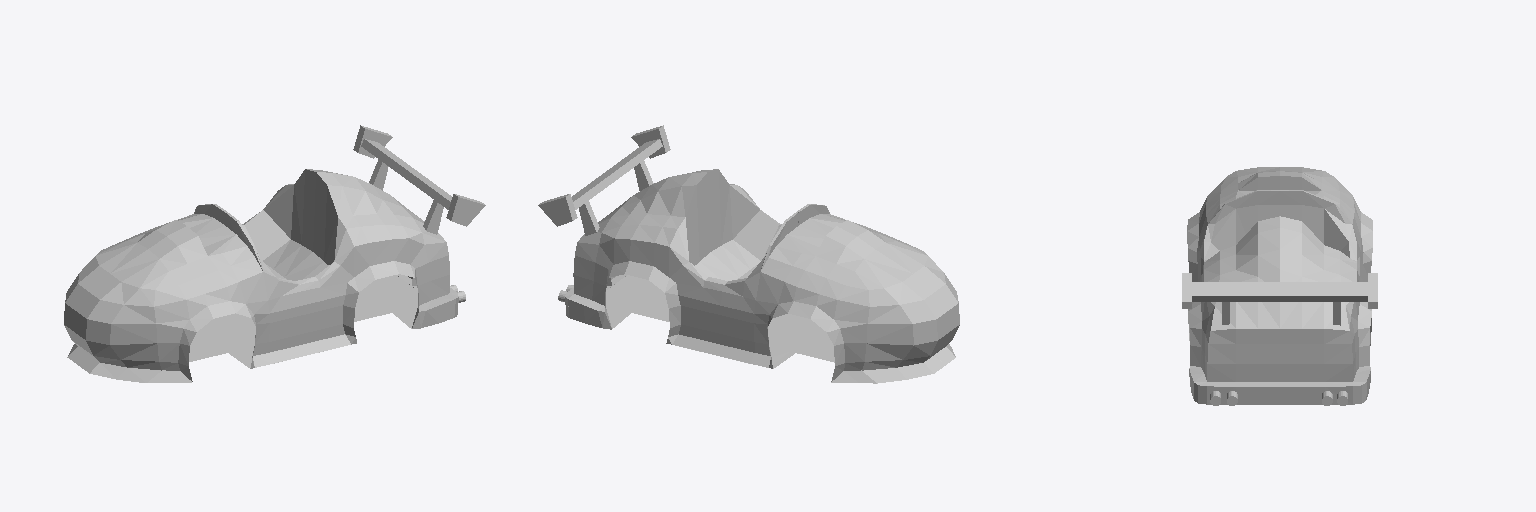
Rendered from newcar.obj.
3 views of the same model, side by side, from view 1: azimuth 30°, elevation 25°; view 2: azimuth 150°, elevation 25°; view 3: azimuth 270°, elevation 25° (orthographic).
Bounding box in the file's own units: 20.07 × 7.33 × 9.39.